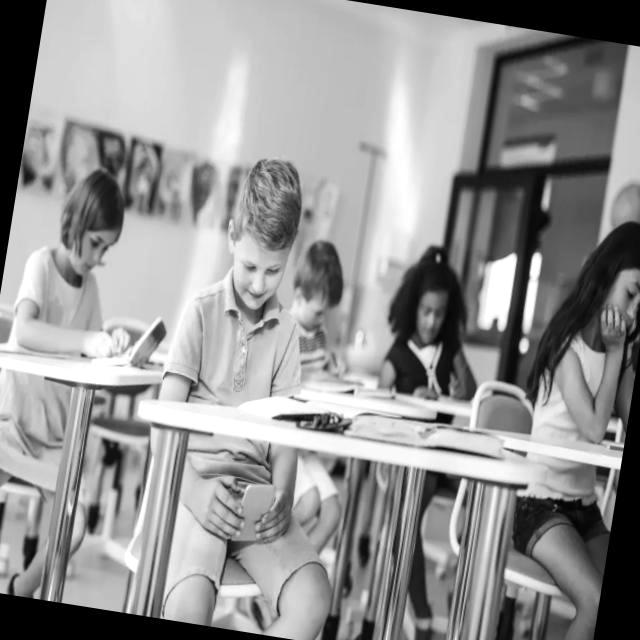phone: (230, 478, 277, 546)
